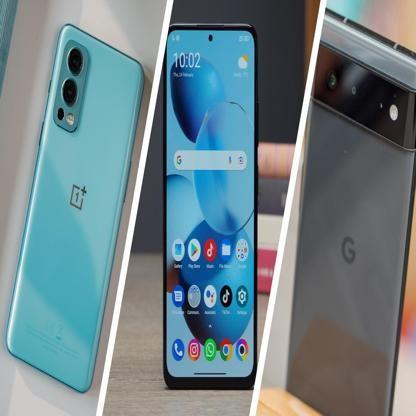not trash: (4, 20, 148, 390), (288, 6, 416, 415), (158, 16, 256, 396)
